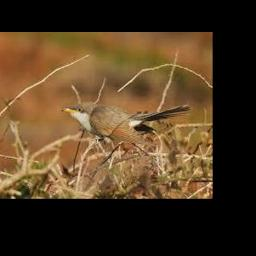Cuckoo: (60, 103, 190, 143)
